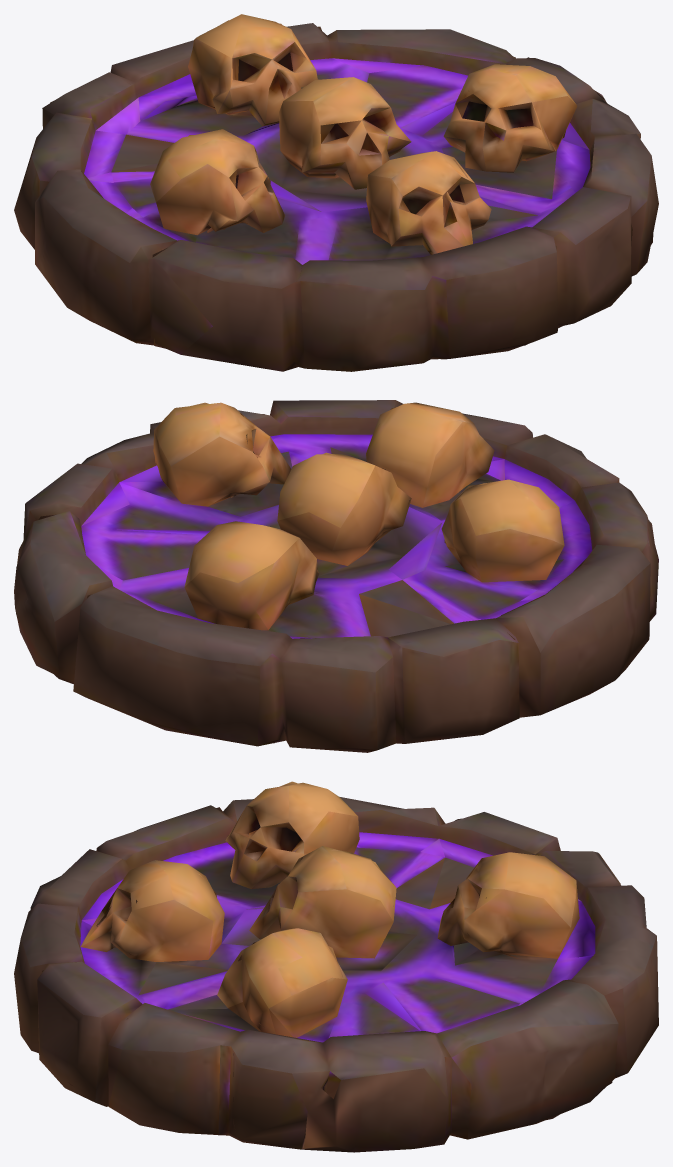
File: lg-necromancer-circle.glb
3 renders of one model, top to bottom at view 1: azimuth 30°, elevation 25°; view 2: azimuth 150°, elevation 25°; view 3: azimuth 270°, elevation 25°, orthographic.
Visible parts, largest first — view 1: geometry_0; view 2: geometry_0; view 3: geometry_0.
Boxes of the visible parts, x1,y1,x2,y2 form: geometry_0: [14, 14, 658, 371]; geometry_0: [14, 400, 658, 752]; geometry_0: [14, 781, 658, 1152].
Size of the model in its own units: 1 by 0.2867 by 0.9995.
1 material, 1 textured.
